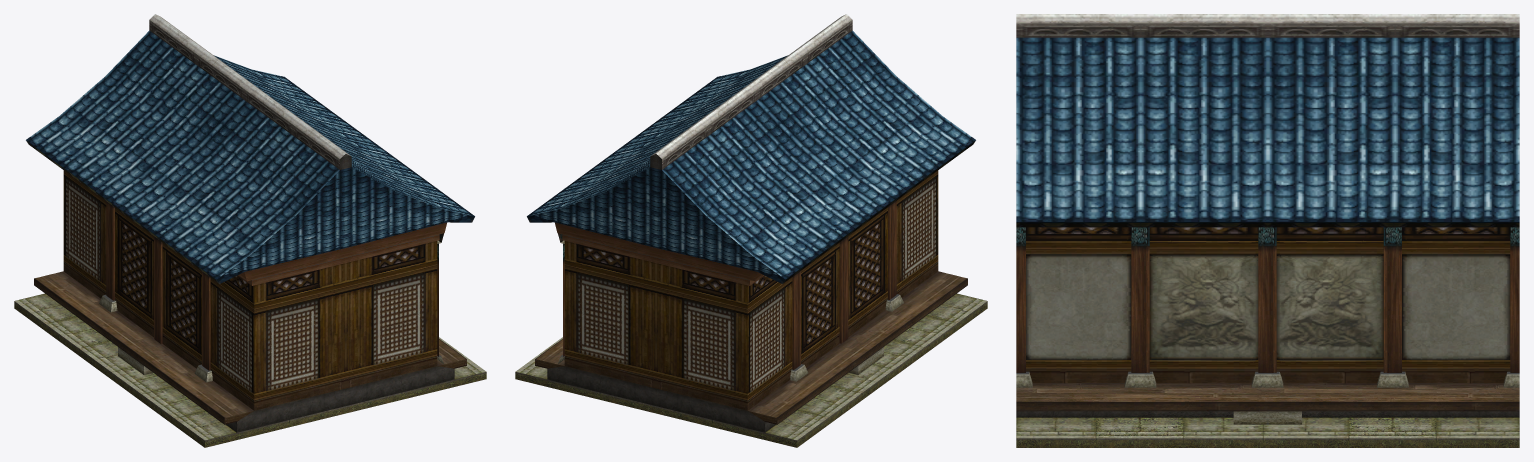
Rendered from secret_wall_00.fbx.
3 renders of one model, left to right at view 1: azimuth 30°, elevation 25°; view 2: azimuth 150°, elevation 25°; view 3: azimuth 270°, elevation 25°, orthographic. The views are drawn at different scales.
Parts seen in each view (by area): view 1: secret_wall_00; view 2: secret_wall_00; view 3: secret_wall_00.
Boxes of the visible parts, x1,y1,x2,y2 form: secret_wall_00: (14,14,486,447); secret_wall_00: (515,14,987,447); secret_wall_00: (1016,14,1519,447).
Bounding box in the file's own units: 12.8 × 11.29 × 15.
